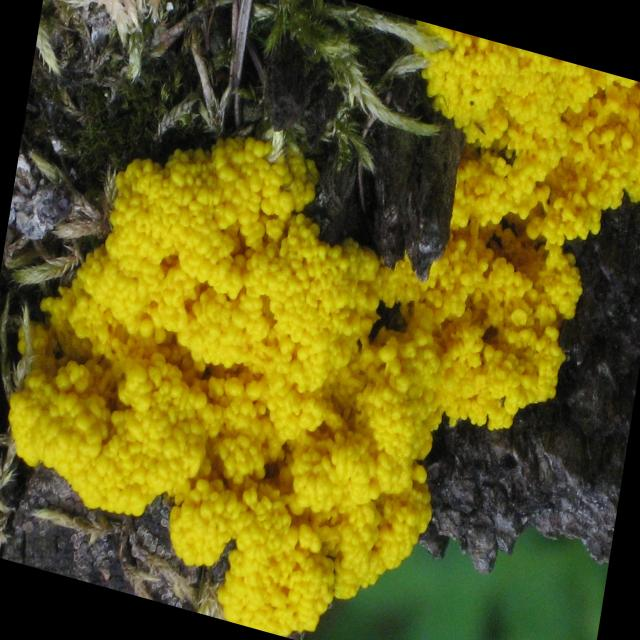Dog_vomit_slime_mold: (24, 9, 640, 640)
